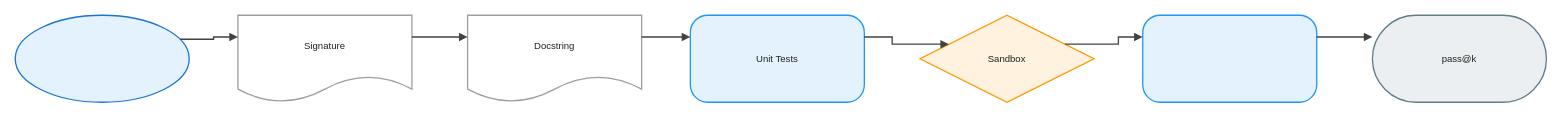
Image size: 1563x118. Some labels were removed from this diagram. Each missing label, with the box of its shape:
Code Samples: (1142, 14, 1317, 102)
Handwrite: (14, 14, 189, 102)
